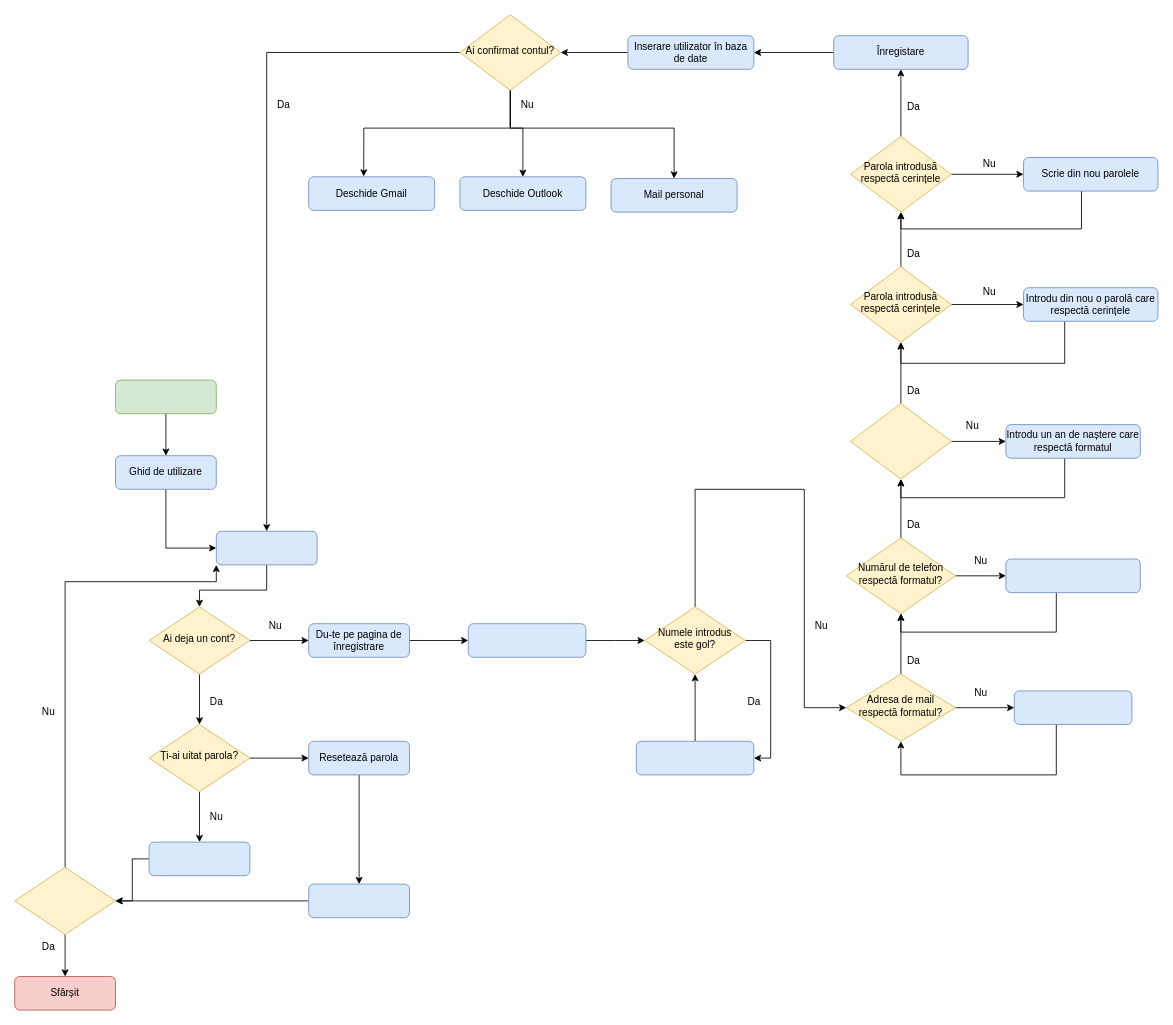
Image size: 1173x1025. Some labels were removed from this diagram. Each missing label, with the centre of its shape:
Anul nașterii respectă formatul?: the point at 900,441
Completează câmpurile pentru înregistare: the point at 526,640
Datele sunt corecte?: the point at 65,900
Introdu datele de autentificare: the point at 199,858
Introdu o adresă de mail care respectă formatul: the point at 1072,707
Introdu un nume care nu este gol: the point at 694,757
Introdu un număr de telefon care respectă formatul: the point at 1072,575
Pagina de Login: the point at 266,547
Start: the point at 165,396
Încearcă să te autentifici: the point at 359,900
